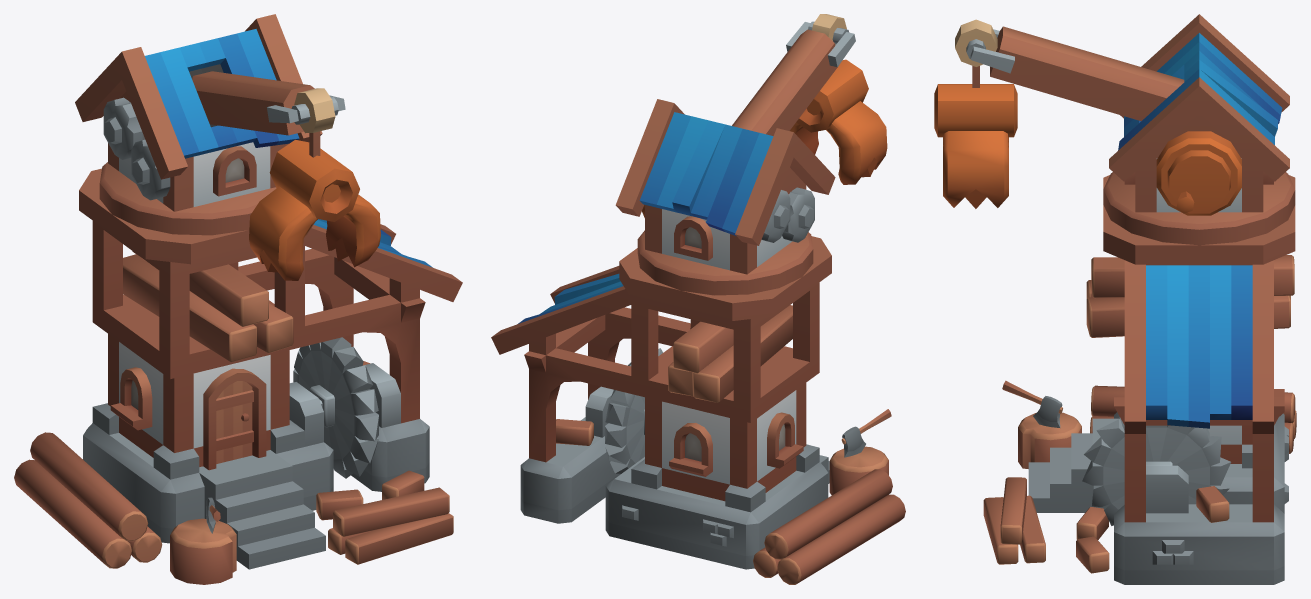
The model's file is building_lumbermill_blue.glb.
3 renders of one model, left to right at view 1: azimuth 30°, elevation 25°; view 2: azimuth 150°, elevation 25°; view 3: azimuth 270°, elevation 25°, orthographic. The views are drawn at different scales.
Parts seen in each view (by area): view 1: building_lumbermill_blue, building_lumbermill_top_blue, building_lumbermill_saw_blue; view 2: building_lumbermill_blue, building_lumbermill_top_blue, building_lumbermill_saw_blue; view 3: building_lumbermill_blue, building_lumbermill_top_blue, building_lumbermill_saw_blue.
Boxes of the visible parts, x1=… form: building_lumbermill_blue: x1=14, y1=168, x2=462, y2=584; building_lumbermill_top_blue: x1=75, y1=14, x2=380, y2=280; building_lumbermill_saw_blue: x1=293, y1=337, x2=378, y2=478; building_lumbermill_blue: x1=491, y1=236, x2=905, y2=584; building_lumbermill_top_blue: x1=615, y1=14, x2=887, y2=295; building_lumbermill_saw_blue: x1=605, y1=348, x2=662, y2=474; building_lumbermill_blue: x1=983, y1=175, x2=1296, y2=584; building_lumbermill_top_blue: x1=934, y1=14, x2=1295, y2=245; building_lumbermill_saw_blue: x1=1082, y1=417, x2=1231, y2=525.
Size of the model in its own units: 1.37 by 1.71 by 1.19.
1 material, 1 textured.
